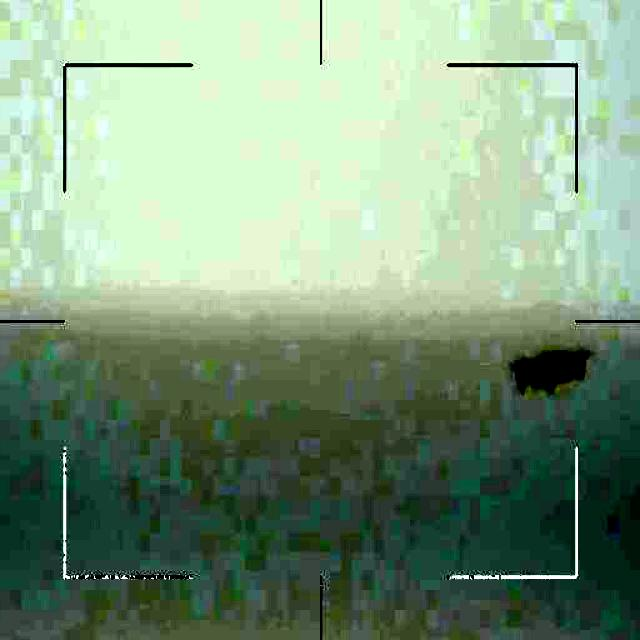bird: (512, 349, 586, 398)
